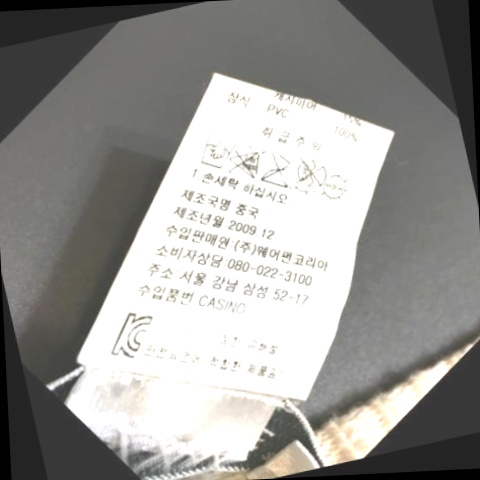DN_dry_clean: (292, 152, 334, 196)
DN_iron: (258, 149, 302, 195)
dry_flat: (317, 171, 355, 205)
hand_wash: (194, 129, 241, 171)
non_chlorine_bleach: (228, 141, 272, 184)
